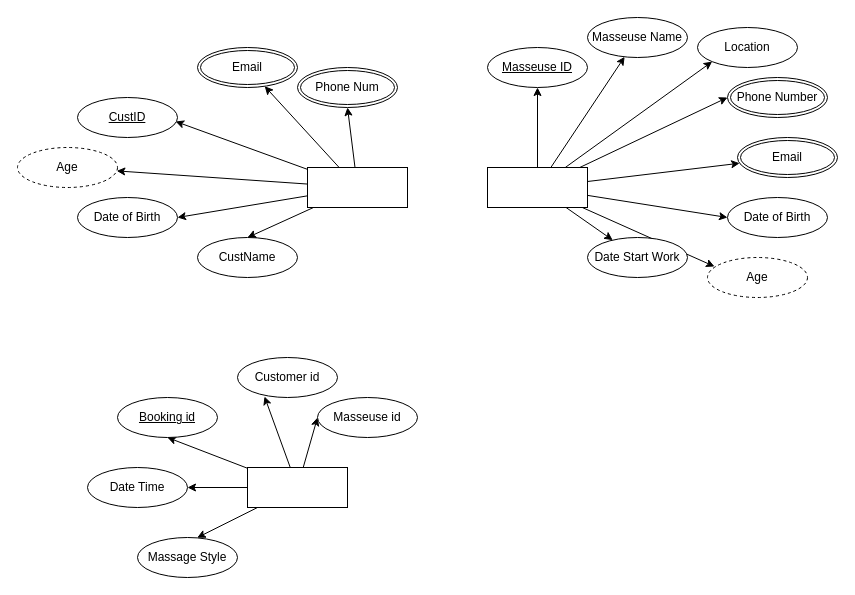
This 855x595 diagram has some shape labels left out. Each missing label, with the box of its shape:
Booking: (246, 466, 348, 508)
Customer: (306, 166, 408, 208)
Masseuse: (486, 166, 588, 208)
